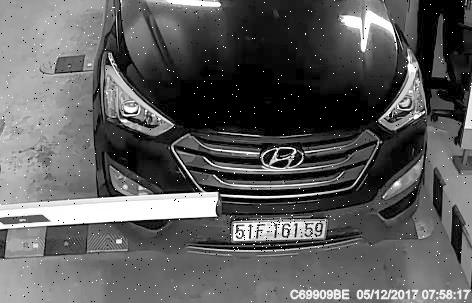License-plate: (223, 215, 334, 253)
